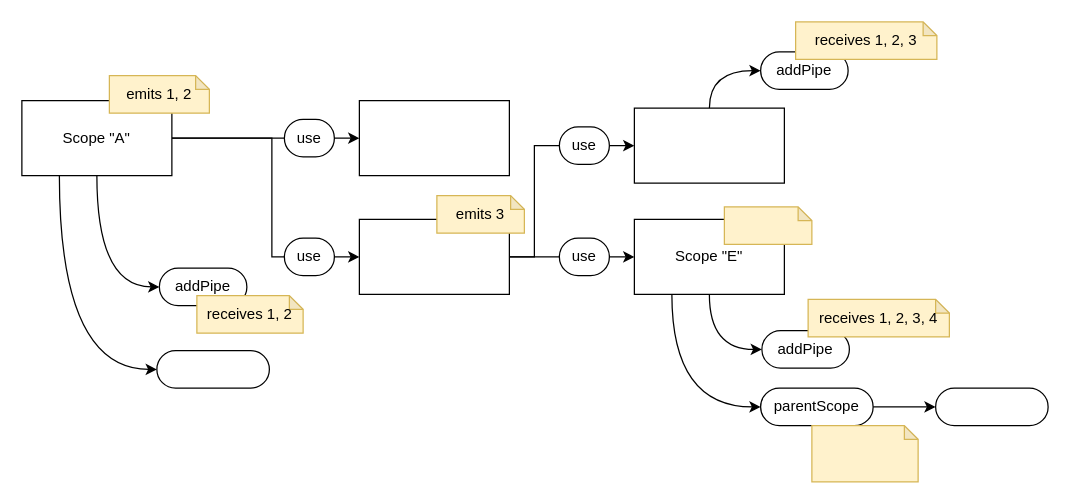
Some shapes in this 1070 by 504 pixel diagram are drawn without their labels. The box of each missing label's shape, as (x1, y1, x2, y2) in pixels:
emit "1": (156, 349, 269, 388)
emit "3": (934, 387, 1048, 426)
emits 4: (723, 206, 812, 244)
reference to Scope "C": (811, 424, 918, 482)
Scope "B": (358, 99, 509, 176)
Scope "C": (358, 218, 509, 294)
Scope "D": (633, 107, 784, 183)
